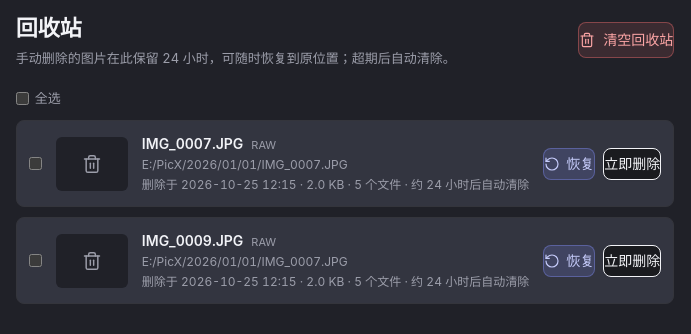
TrashView（回收站管理页） › 多选批量恢复：行复选/全选 → batch_restore_from_trash 一次携全量 id；成功清空勾选并刷新
Expected: the text "IMG_0007.JPG" is shown, x1=142 y1=135 x2=243 y2=152
Click the checkbox named "选择 IMG_0007.JPG": (35, 164) x1=29 y1=157 x2=42 y2=170
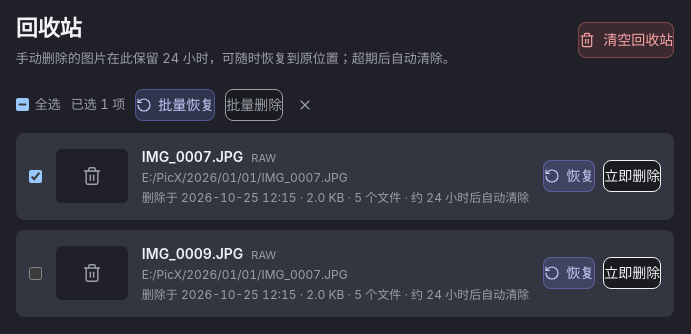
Click the checkbox named "选择 IMG_0009.JPG": (35, 273) x1=29 y1=266 x2=42 y2=280
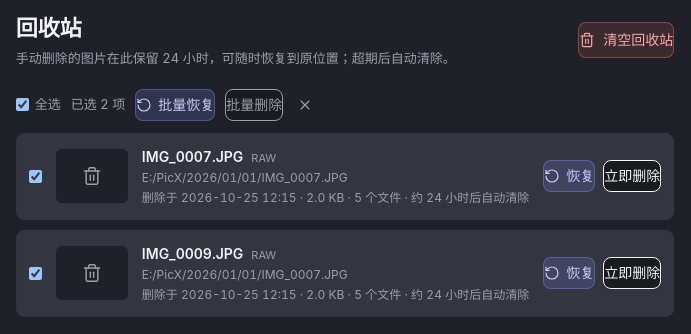
Click the button "批量恢复": (175, 104) x1=135 y1=88 x2=215 y2=120
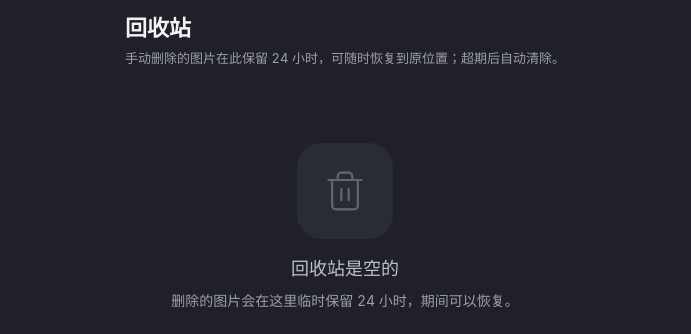
Result: the button "批量恢复" is gone
